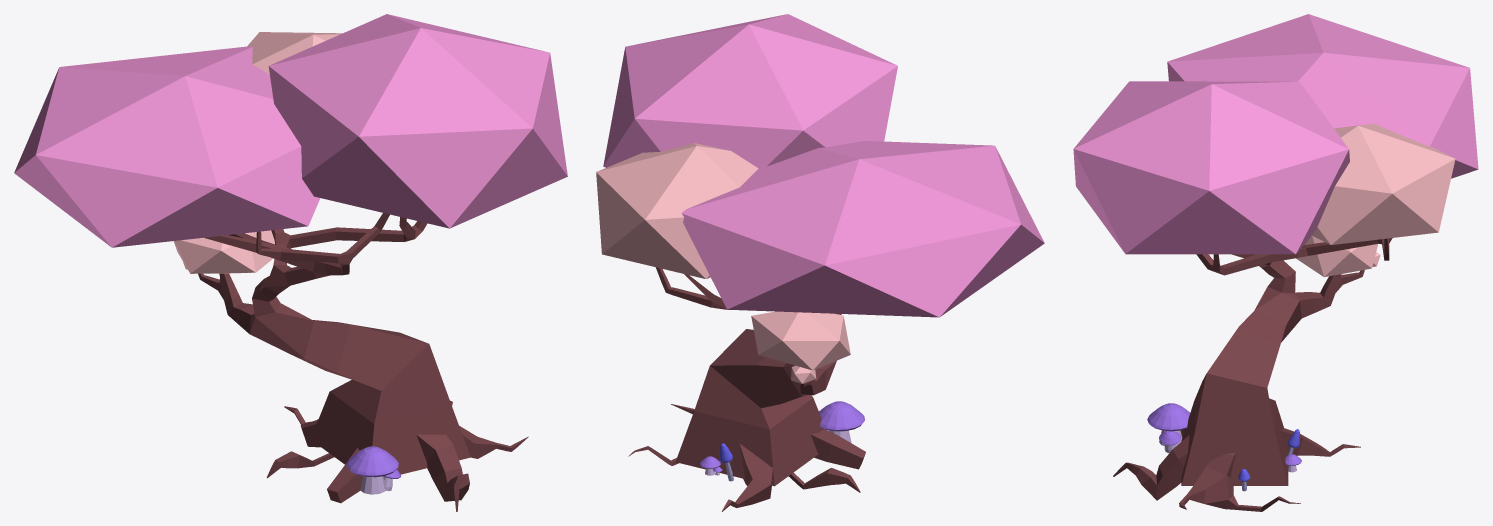
File: Mutterbaum.fbx
3 views of the same model, side by side, from view 1: azimuth 30°, elevation 25°; view 2: azimuth 150°, elevation 25°; view 3: azimuth 270°, elevation 25° (orthographic). The views are drawn at different scales.
Parts seen in each view (by area): view 1: Leaves_1, Leaves_2, Stamm, Wurzeln, Leaves_4, Leaves_3, Pilz_1_Top; view 2: Leaves_2, Leaves_1, Stamm, Leaves_3, Leaves_4, Wurzeln, Pilz_1_Top; view 3: Leaves_1, Leaves_2, Stamm, Leaves_3, Wurzeln, Leaves_4, Pilz_1_Top.
Part boxes in pixels (x1,y1,x2,y2): Leaves_1: (268,14,567,228); Leaves_2: (14,46,320,247); Stamm: (198,213,470,477); Wurzeln: (266,400,528,511); Leaves_4: (173,230,274,273); Leaves_3: (247,32,342,74); Pilz_1_Top: (346,446,398,477); Leaves_2: (681,141,1044,317); Leaves_1: (603,14,897,168); Stamm: (656,267,841,486); Leaves_3: (596,143,758,278); Leaves_4: (751,311,850,370); Wurzeln: (628,404,865,511); Pilz_1_Top: (819,401,864,431); Leaves_1: (1073,81,1349,254); Leaves_2: (1167,14,1478,178); Stamm: (1181,238,1392,485); Leaves_3: (1311,123,1455,244); Wurzeln: (1113,428,1360,511); Leaves_4: (1296,235,1378,277); Pilz_1_Top: (1147,403,1190,431).
Size of the model in its own units: 328 by 308 by 275.
